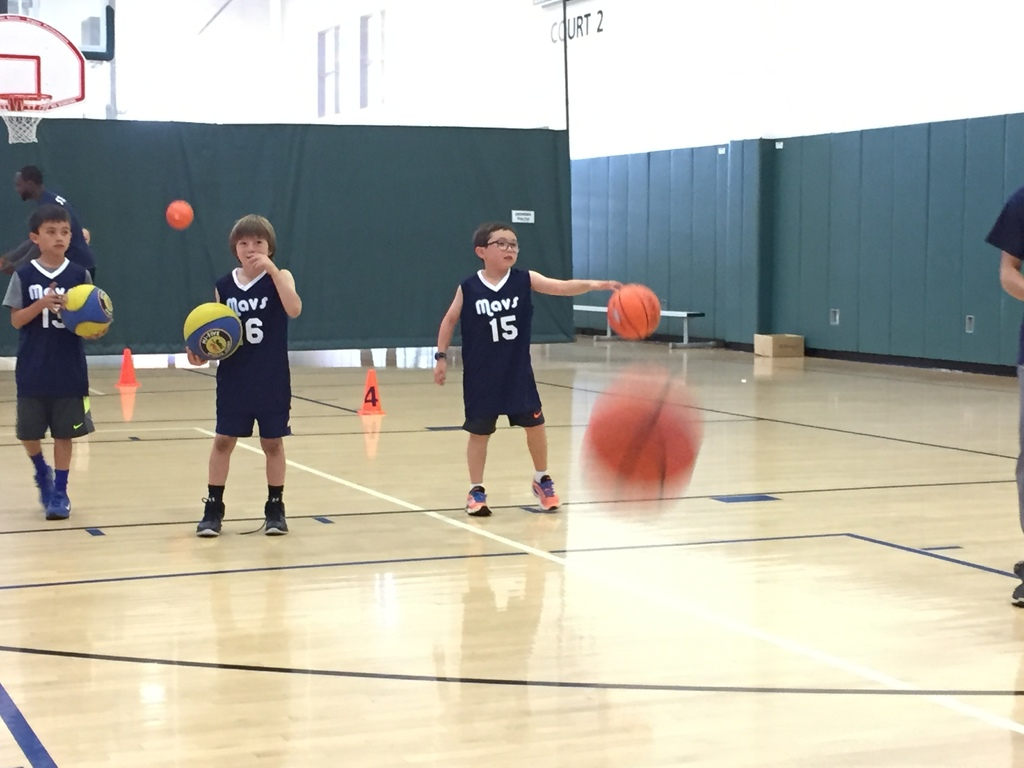Human-face: (484, 230, 518, 268), (236, 236, 268, 266), (40, 224, 70, 254), (16, 175, 25, 200)
